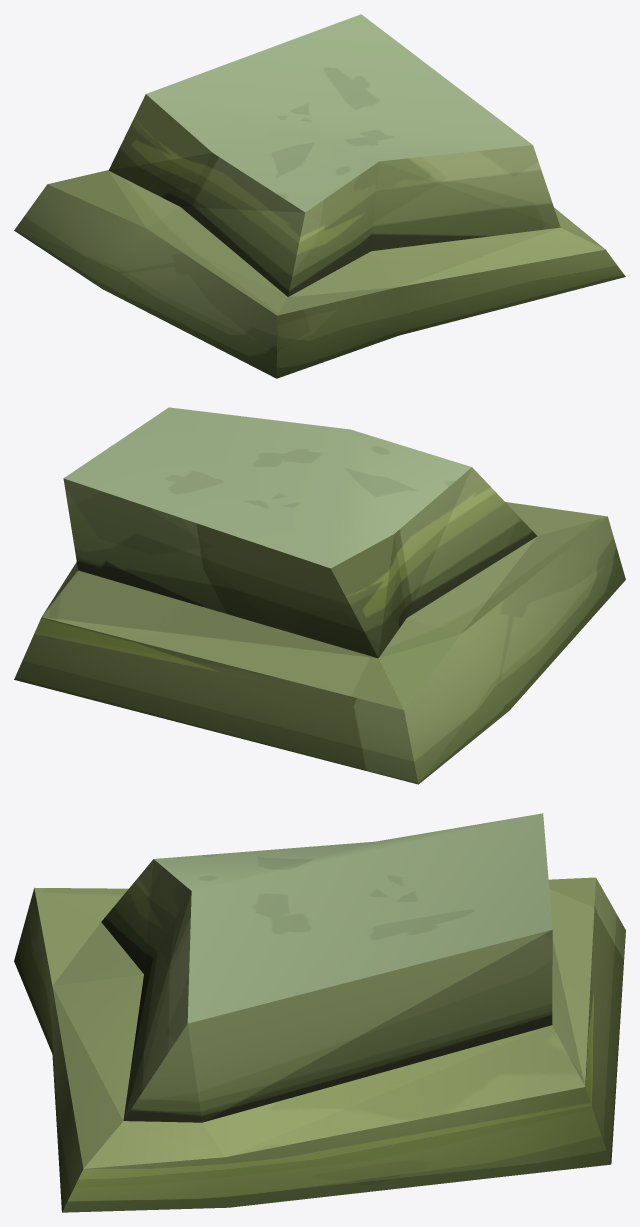
The model's file is F_W_O_rock_006.fbx.
3 views of the same model, one above another, from view 1: azimuth 30°, elevation 25°; view 2: azimuth 150°, elevation 25°; view 3: azimuth 270°, elevation 25° (orthographic). The views are drawn at different scales.
Parts seen in each view (by area): view 1: F_W_O_rock_006; view 2: F_W_O_rock_006; view 3: F_W_O_rock_006.
Boxes of the visible parts, left/top/right/bottom form: F_W_O_rock_006: left=14, top=14, right=625, bottom=378; F_W_O_rock_006: left=14, top=407, right=625, bottom=784; F_W_O_rock_006: left=14, top=813, right=625, bottom=1212.
Bounding box in the file's own units: 4.81 × 1.75 × 4.4.
